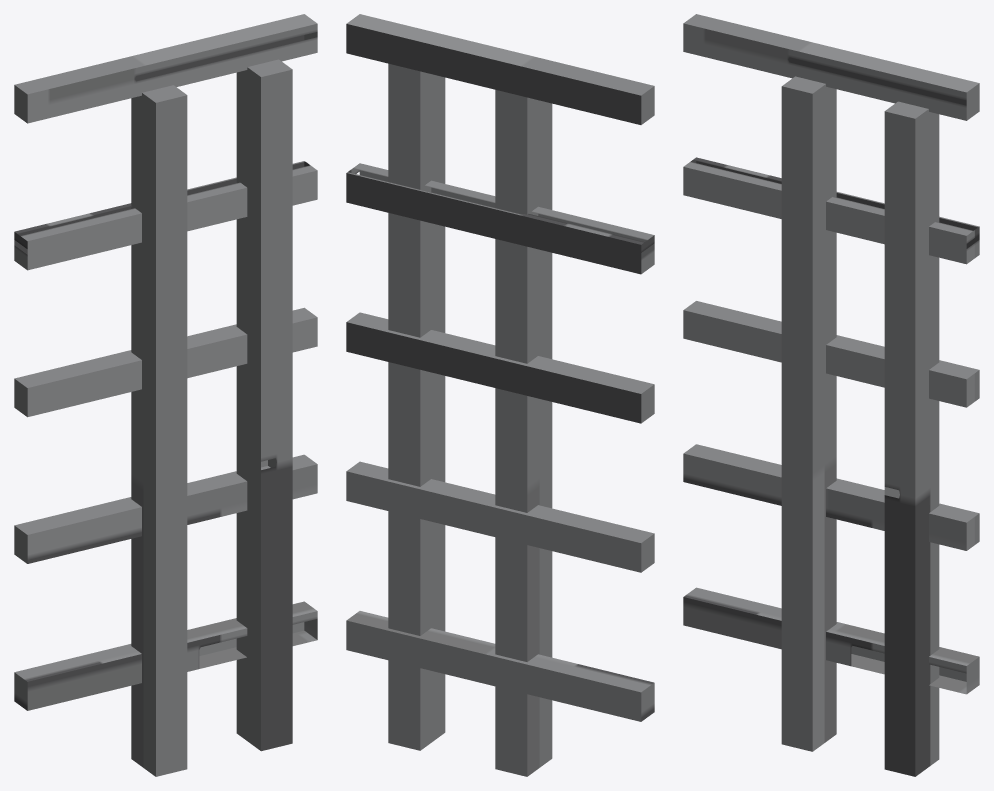
3 views of the same model, side by side, from view 1: azimuth 30°, elevation 25°; view 2: azimuth 150°, elevation 25°; view 3: azimuth 330°, elevation 25° (orthographic). The views are drawn at different scales.
Size of the model in its own units: 0.4135 by 0.9539 by 0.0666.
